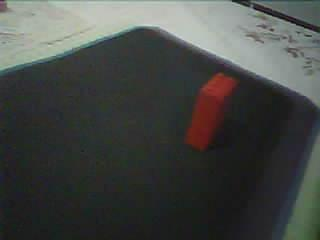lego: (180, 72, 238, 151)
